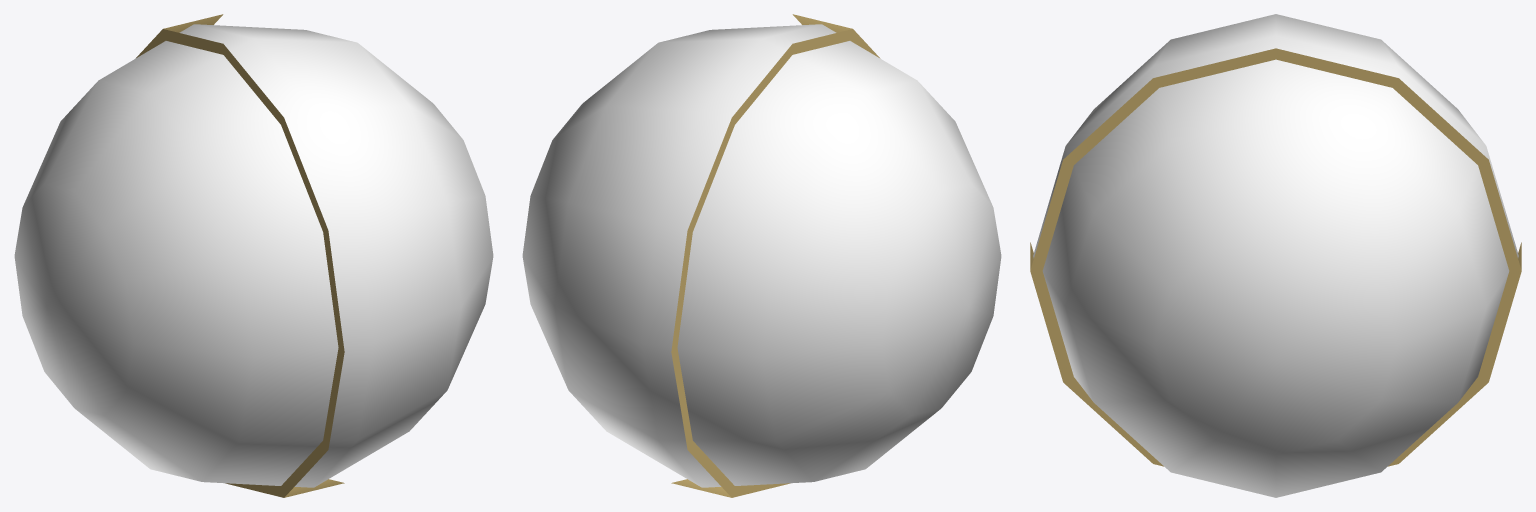
Rendered from culverin.glb.
3 renders of one model, left to right at view 1: azimuth 30°, elevation 25°; view 2: azimuth 150°, elevation 25°; view 3: azimuth 270°, elevation 25°, orthographic.
Parts seen in each view (by area): view 1: model; view 2: model; view 3: model.
Part boxes in pixels (x1,y1,x2,y2): model: [14, 14, 493, 497]; model: [522, 14, 1001, 497]; model: [1030, 14, 1521, 497].
Bounding box in the file's own units: 0.34 × 0.344 × 0.344.
